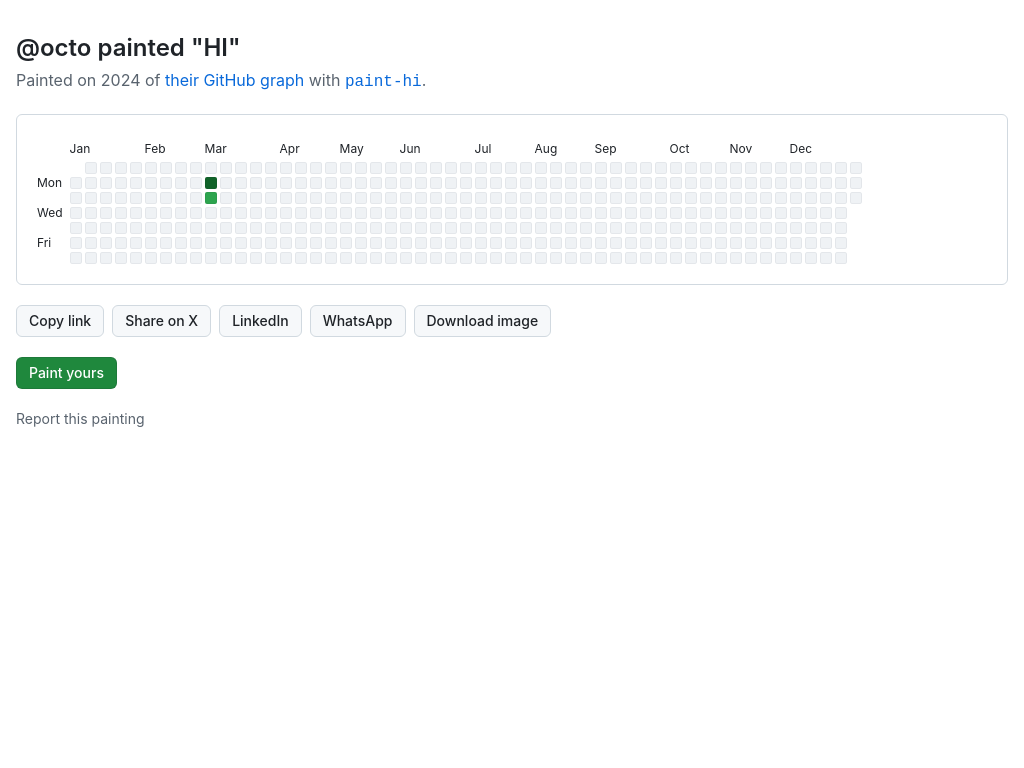
it: reports and takedowns › sends a report with the reason
Click the button "Report this painting" at (80, 419), box [16,409,145,429]
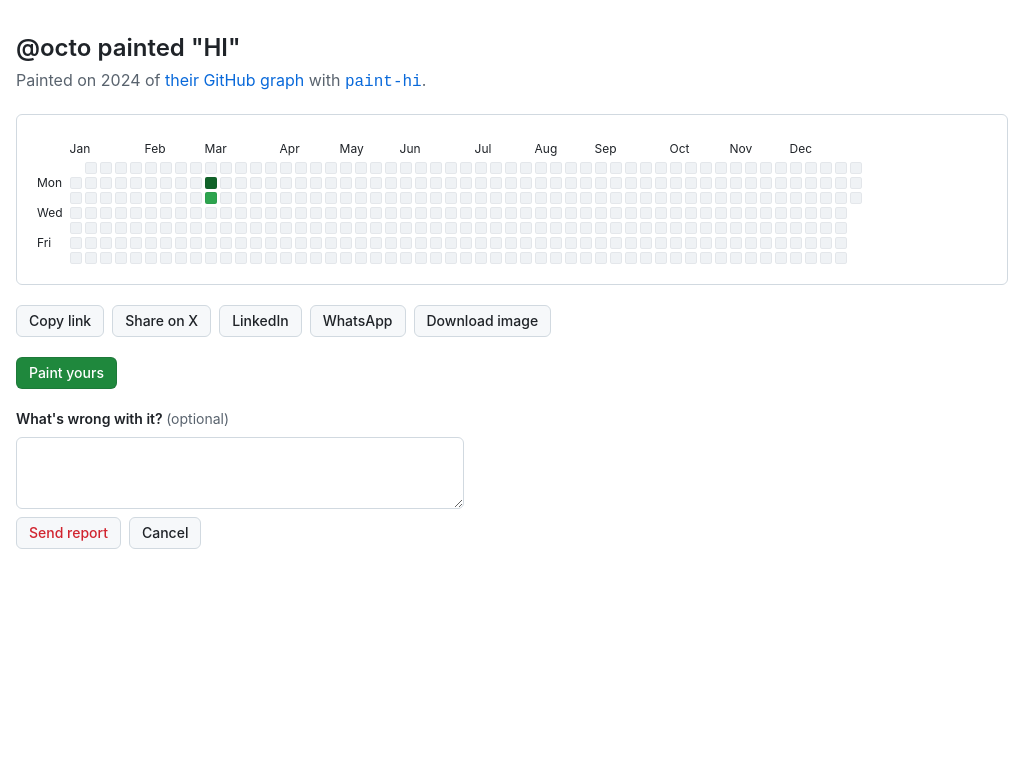
Type "Offensive" into the text box labelled "What's wrong with it? (optional)" at (240, 473), box [16,437,464,509]
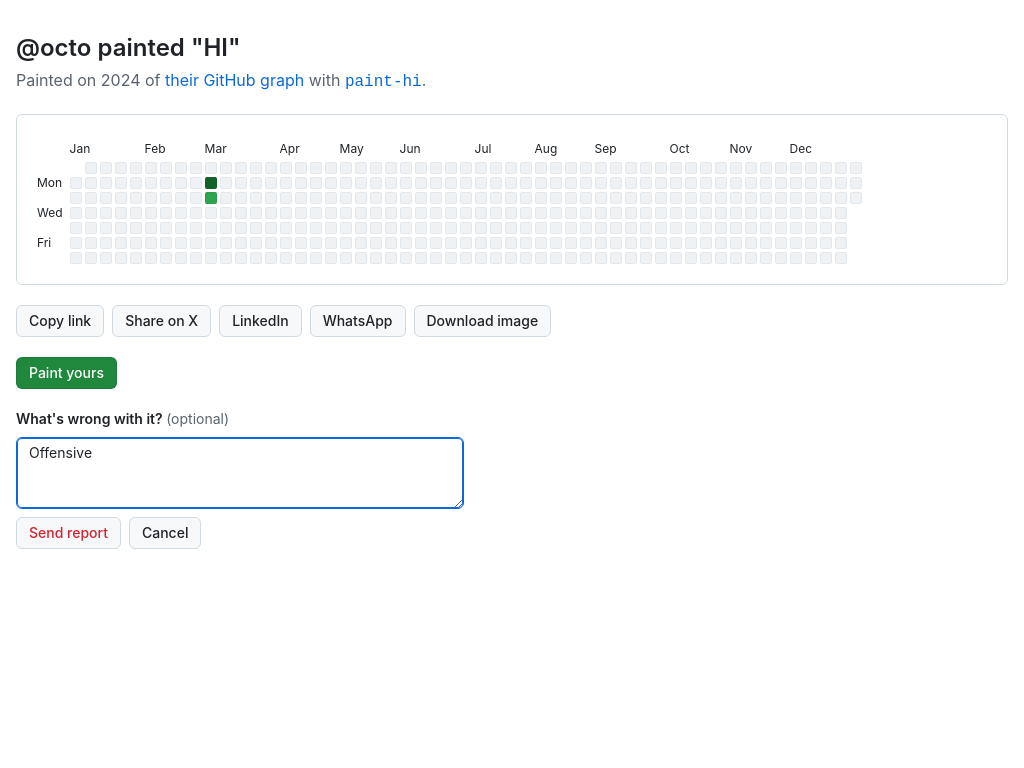
Click the button "Send report" at (68, 533), box [16,517,121,549]
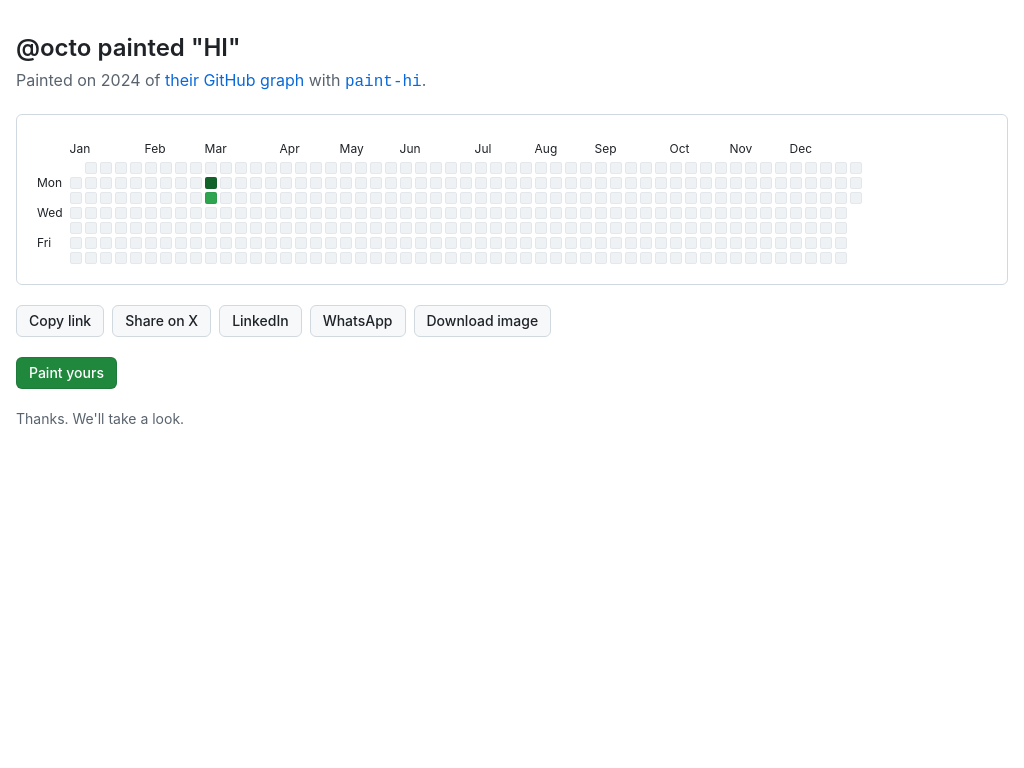
Check: the text "Thanks. We'll take a look." is shown, box [16,410,184,427]
